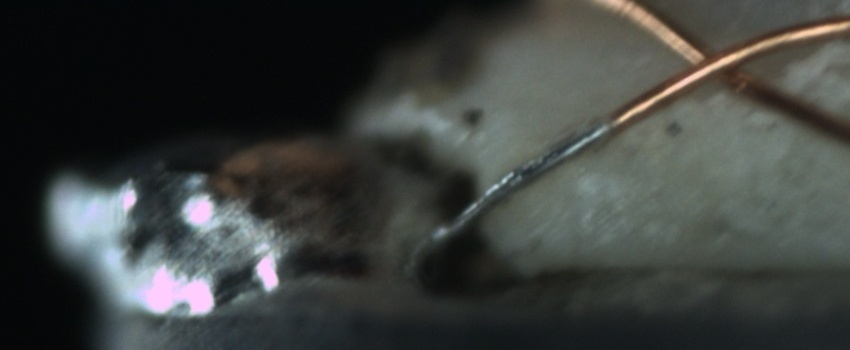CL: (660, 25, 767, 100)
TS: (428, 115, 608, 243)
